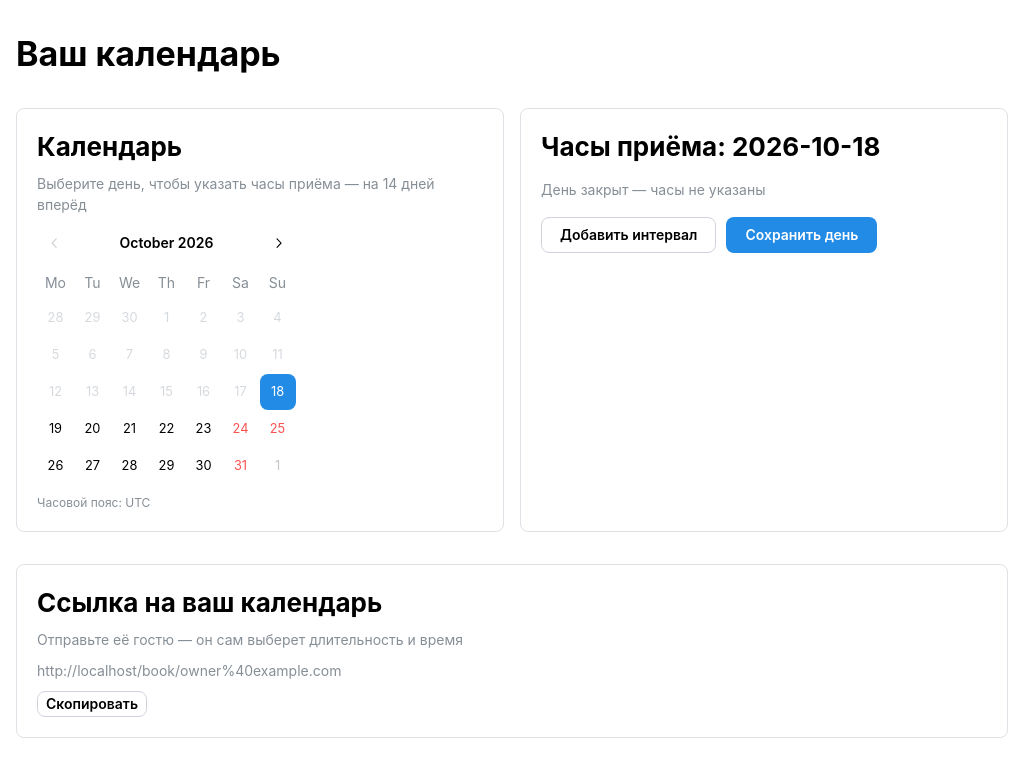
Test: кабинет владельца: календарь доступности › 409 показывает, какая встреча держит день
Expected: the text "День закрыт — часы не указаны" is shown, x1=541 y1=181 x2=766 y2=198
Click the button "Добавить интервал" at (629, 235), box x1=541 y1=217 x2=716 y2=253
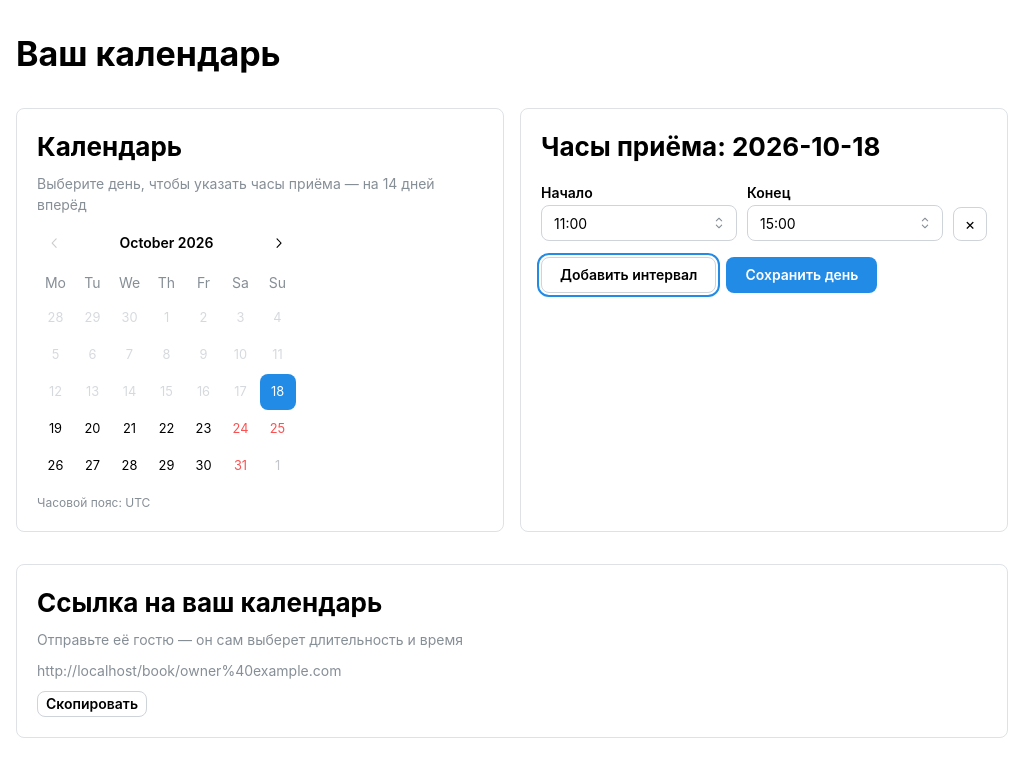
Click the button "Сохранить день" at (802, 275), box x1=726 y1=257 x2=877 y2=293
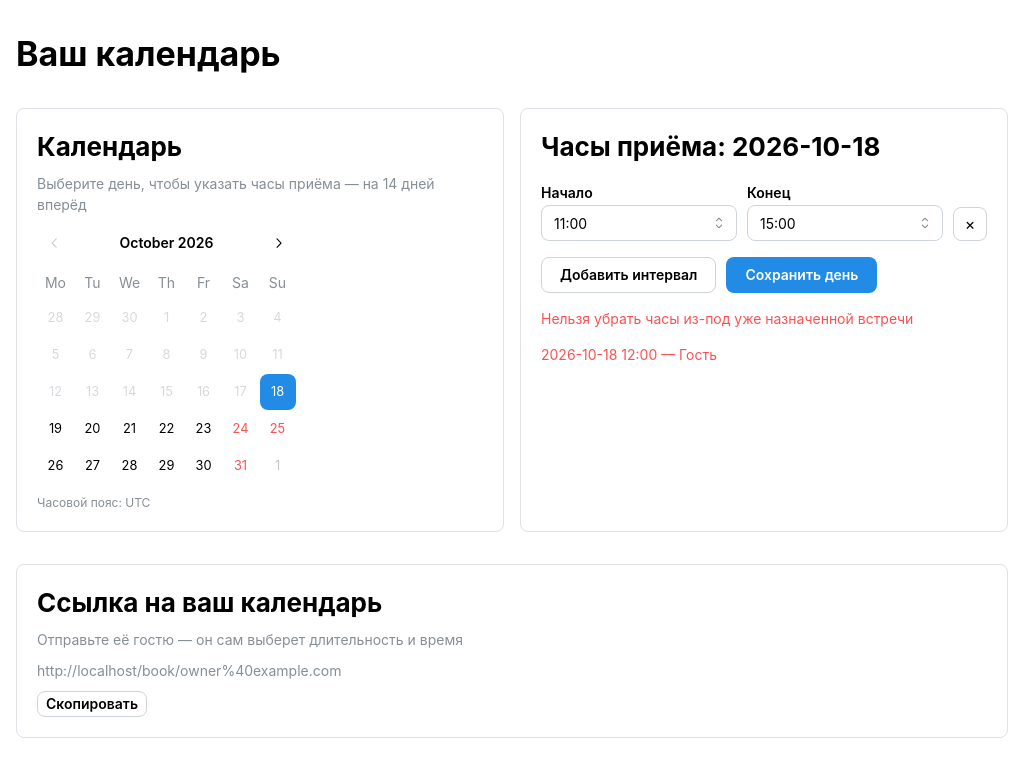
Expected: the text "Нельзя убрать часы из-под уже назначенной встречи" is shown, x1=541 y1=310 x2=913 y2=327
Expected: the text "2026-10-18 12:00 — Гость" is shown, x1=541 y1=346 x2=717 y2=363
